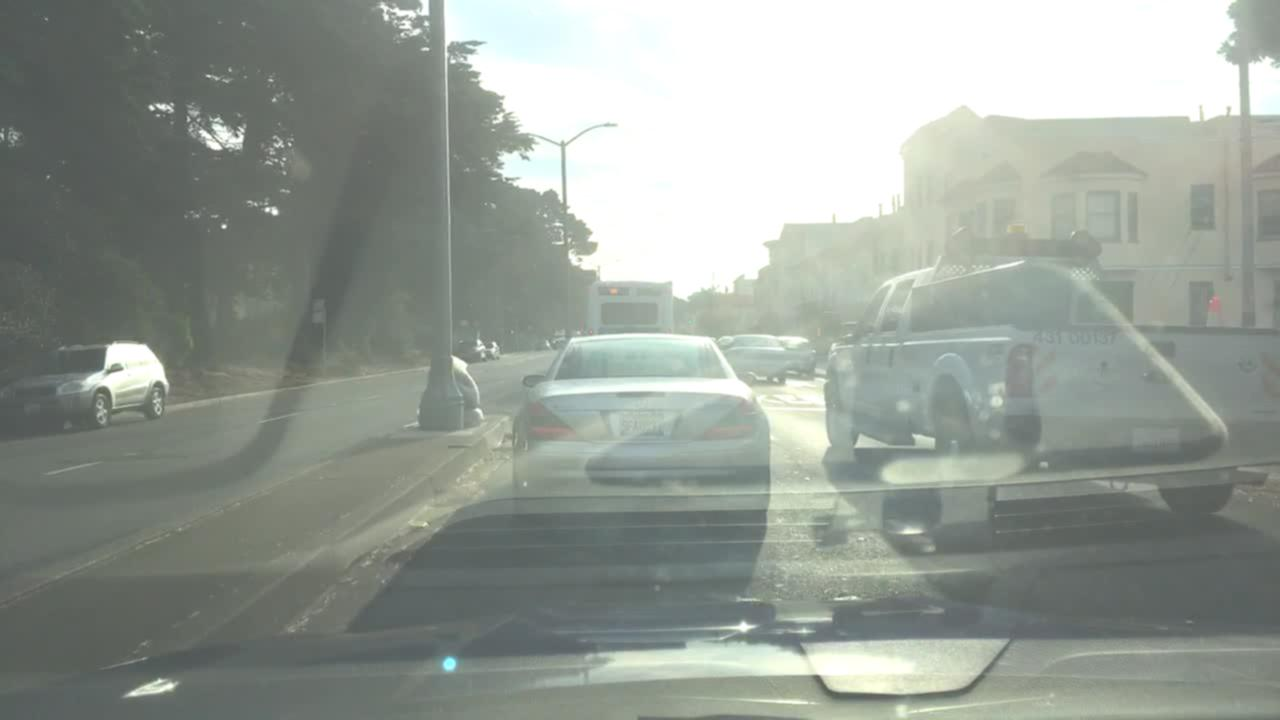Mercedes: (633, 396, 650, 411)
